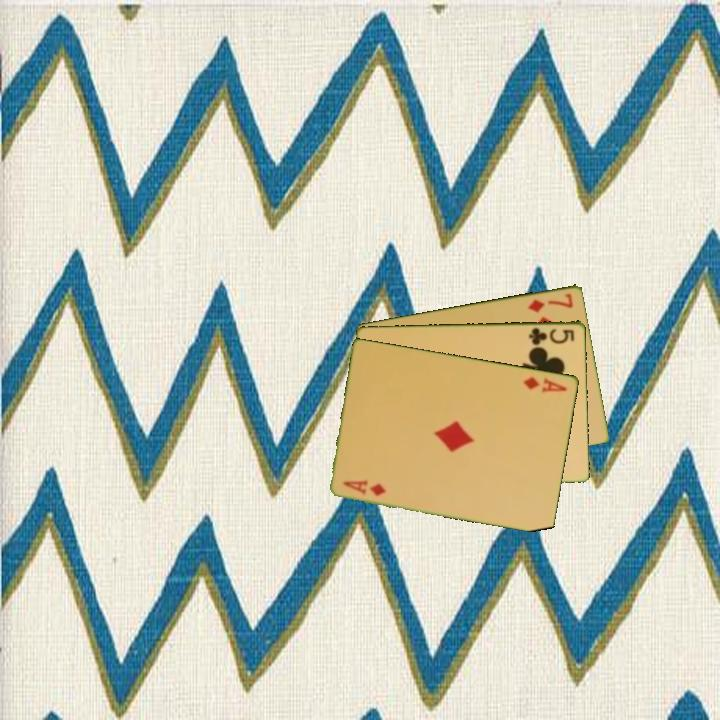5c: (525, 324, 578, 348)
7d: (524, 290, 576, 315)
Ad: (520, 373, 570, 395), (340, 476, 389, 498)
